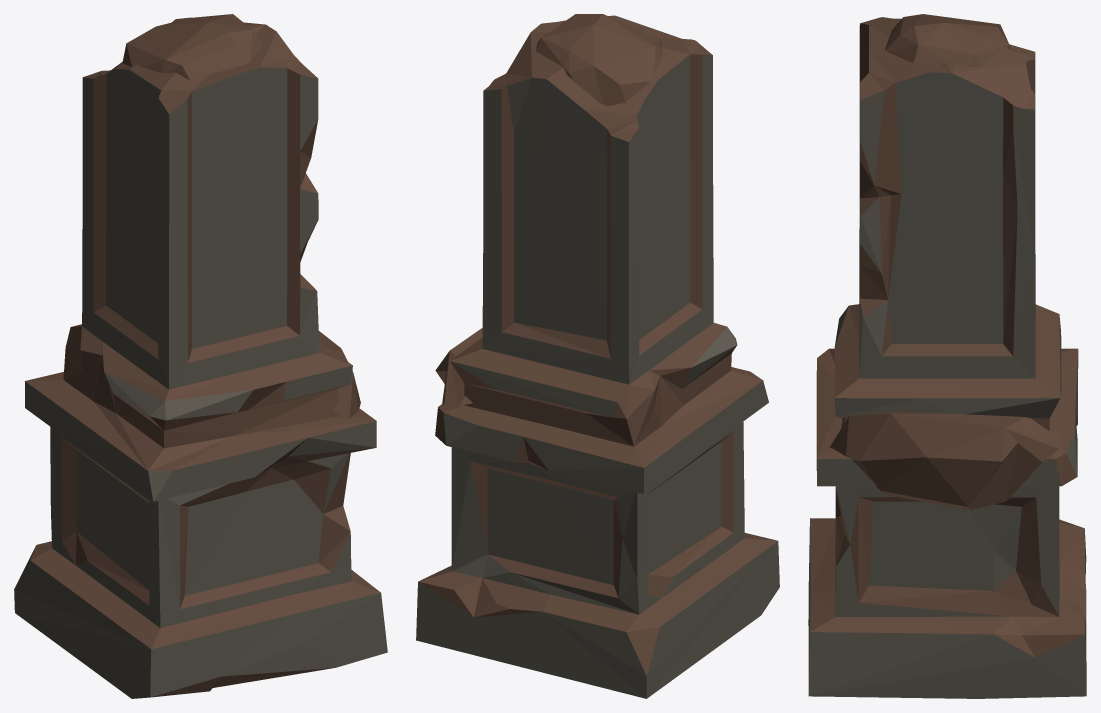
The model's file is synty-prop-pillar-broken-moss-02.gltf.
The picture shows the model from 3 angles, left to right: view 1: azimuth 30°, elevation 25°; view 2: azimuth 150°, elevation 25°; view 3: azimuth 270°, elevation 25°; orthographic projection. The views are drawn at different scales.
Parts seen in each view (by area): view 1: SM_Prop_Pillar_Broken_Moss_02; view 2: SM_Prop_Pillar_Broken_Moss_02; view 3: SM_Prop_Pillar_Broken_Moss_02.
Boxes of the visible parts, left/top/right/bottom form: SM_Prop_Pillar_Broken_Moss_02: left=14, top=14, right=387, bottom=698; SM_Prop_Pillar_Broken_Moss_02: left=416, top=14, right=779, bottom=698; SM_Prop_Pillar_Broken_Moss_02: left=808, top=14, right=1086, bottom=698.
Size of the model in its own units: 0.6912 by 1.56 by 0.6337.
Materials: 1 (1 with a texture image).
